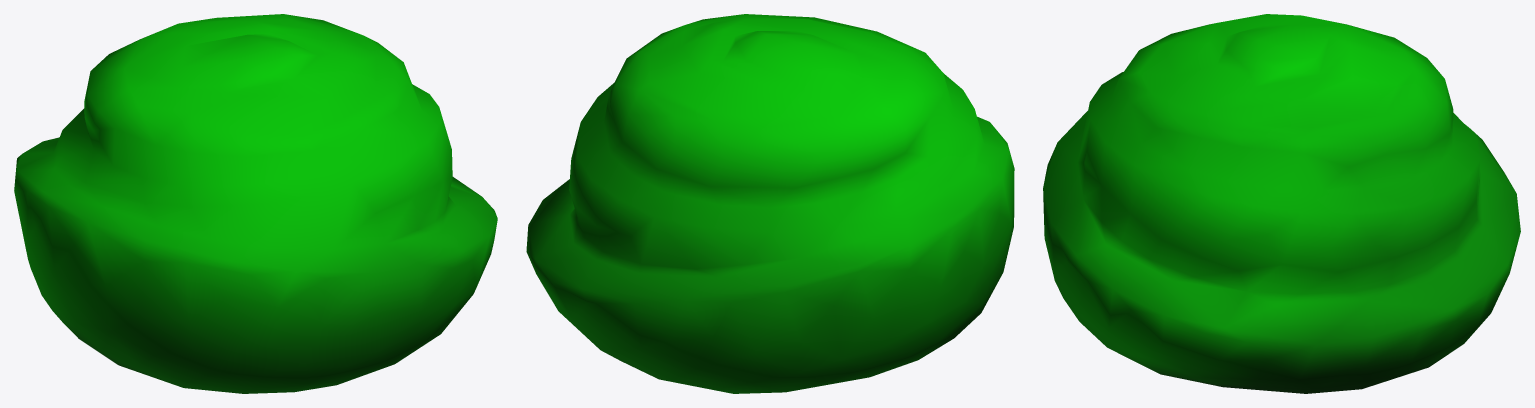
Rendered from Bush.FBX.
The picture shows the model from 3 angles, left to right: view 1: azimuth 30°, elevation 25°; view 2: azimuth 150°, elevation 25°; view 3: azimuth 270°, elevation 25°; orthographic projection.
Parts seen in each view (by area): view 1: ThickBush_low; view 2: ThickBush_low; view 3: ThickBush_low.
Part boxes in pixels (x1=…): ThickBush_low: x1=14, y1=14, x2=497, y2=393; ThickBush_low: x1=526, y1=14, x2=1014, y2=393; ThickBush_low: x1=1043, y1=14, x2=1520, y2=393.
Bounding box in the file's own units: 98.24 × 62.59 × 97.53.
